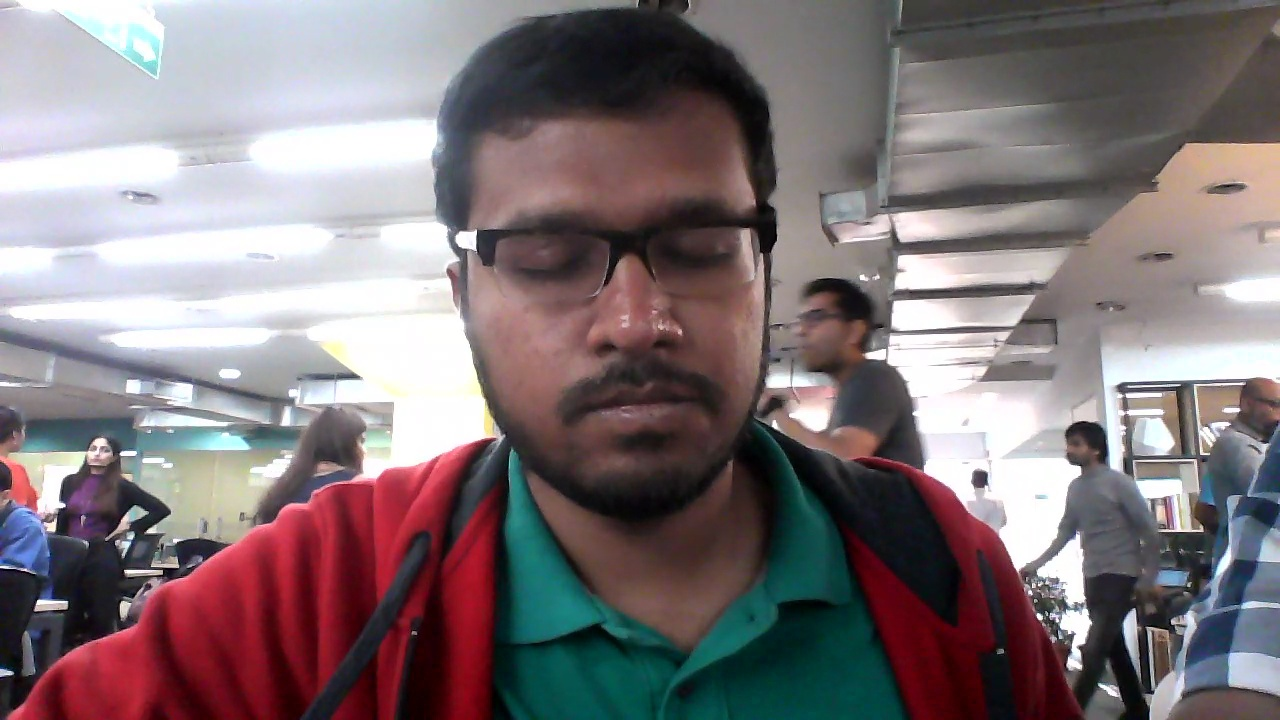closed: (432, 2, 789, 536)
